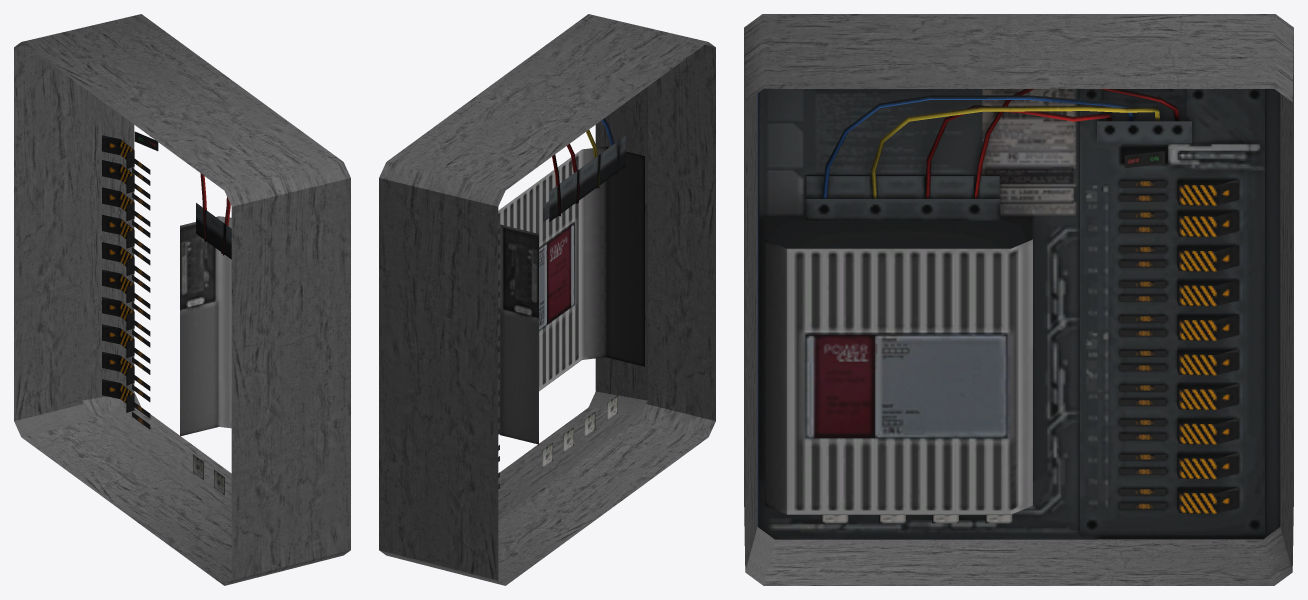
The model's file is p6_fuse_box_base_a_lod2.glb.
3 renders of one model, left to right at view 1: azimuth 30°, elevation 25°; view 2: azimuth 150°, elevation 25°; view 3: azimuth 270°, elevation 25°, orthographic. The views are drawn at different scales.
Visible parts, largest first — view 1: surf0, surf1; view 2: surf0, surf1; view 3: surf1, surf0.
Boxes of the visible parts, x1,y1,x2,y2 form: surf0: [14, 14, 350, 585]; surf1: [102, 131, 231, 494]; surf0: [379, 14, 715, 585]; surf1: [498, 118, 644, 488]; surf1: [757, 89, 1280, 539]; surf0: [744, 14, 1293, 585].
Size of the model in its own units: 7.87 by 24.82 by 24.77.
